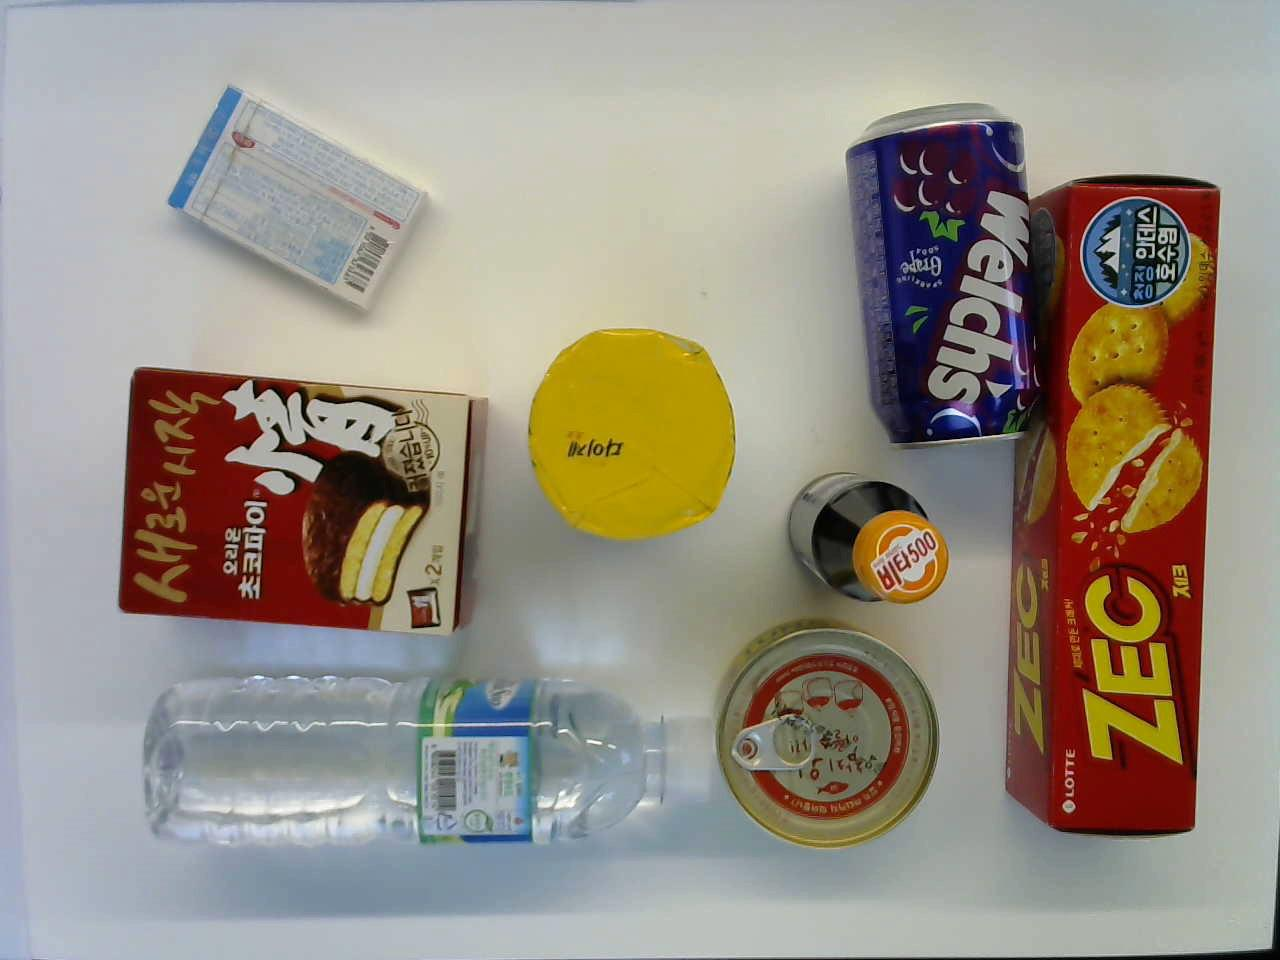ID_gum: (162, 81, 430, 315)
chocopie: (111, 364, 491, 636)
diget_choco: (523, 323, 744, 541)
samdasu: (134, 667, 718, 859)
tuna: (709, 614, 945, 848)
vita500: (780, 465, 952, 606)
welchs: (840, 95, 1049, 452)
zec: (997, 170, 1222, 841)
